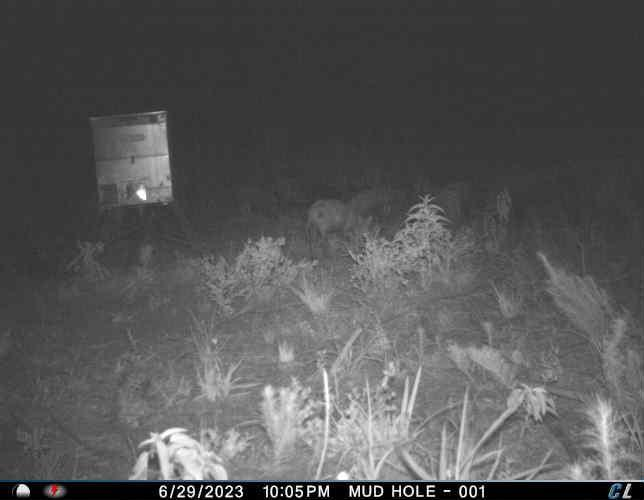Hog: (303, 194, 378, 254)
